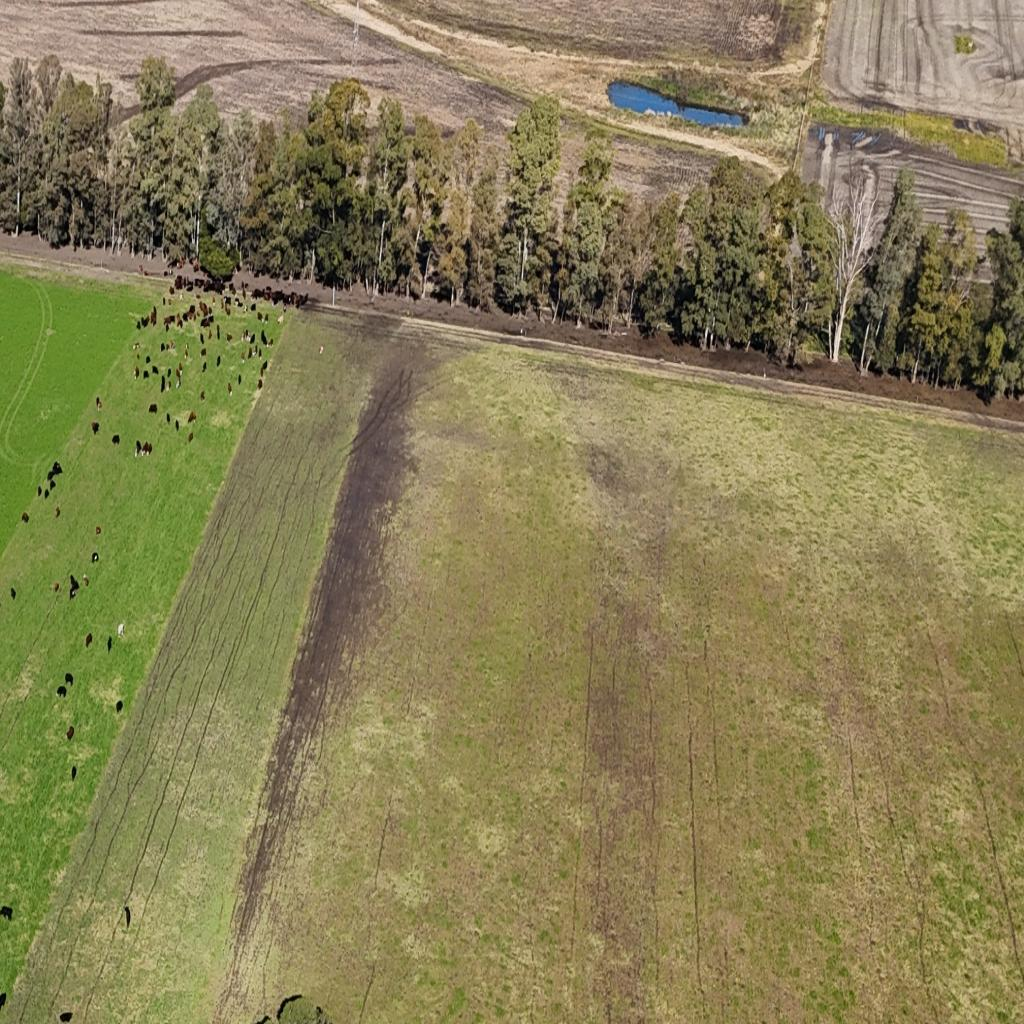cow: (510, 302, 542, 339), (169, 360, 190, 393), (196, 273, 221, 294), (284, 277, 303, 301), (276, 299, 292, 321), (289, 291, 308, 309), (322, 275, 341, 293), (332, 278, 353, 294), (47, 462, 63, 482), (69, 574, 80, 601), (272, 283, 286, 300), (0, 905, 13, 921), (199, 301, 211, 318), (223, 297, 232, 315), (254, 1014, 272, 1023), (176, 275, 186, 291), (187, 420, 197, 436), (42, 466, 52, 482), (439, 294, 450, 308), (193, 276, 202, 292), (235, 345, 243, 363), (183, 280, 194, 293), (142, 441, 152, 455), (260, 329, 268, 346), (225, 331, 235, 344), (242, 330, 252, 343), (188, 306, 196, 322), (66, 724, 74, 740), (197, 295, 206, 309), (264, 288, 273, 302), (91, 421, 100, 435), (235, 296, 245, 308), (252, 287, 262, 299), (151, 308, 157, 327), (240, 349, 247, 365), (229, 280, 237, 294), (158, 425, 166, 439), (57, 686, 67, 697), (111, 434, 120, 446), (53, 587, 60, 602), (188, 411, 196, 424), (153, 366, 161, 379), (8, 228, 18, 238), (86, 632, 92, 648), (160, 376, 166, 392), (135, 440, 141, 456), (65, 673, 73, 685), (410, 293, 418, 305), (40, 502, 48, 514), (118, 622, 124, 638), (163, 252, 169, 268), (315, 1005, 322, 1018), (176, 315, 182, 330), (134, 365, 140, 380), (184, 342, 189, 360), (149, 403, 157, 414), (176, 363, 182, 377), (261, 361, 267, 375), (247, 348, 254, 360), (177, 257, 184, 269), (244, 278, 250, 292), (132, 342, 140, 352), (164, 268, 172, 278), (107, 636, 112, 652), (72, 765, 77, 781), (96, 397, 102, 410), (10, 587, 16, 600), (116, 700, 122, 713), (22, 512, 29, 523), (250, 301, 257, 312), (44, 486, 50, 498), (227, 381, 232, 395), (242, 282, 247, 296), (193, 262, 200, 272), (75, 247, 82, 257), (94, 239, 101, 249), (216, 324, 220, 341), (54, 581, 60, 592), (278, 314, 284, 325), (92, 552, 98, 563), (368, 295, 374, 306), (268, 337, 274, 347), (164, 322, 170, 332), (258, 377, 263, 389), (188, 431, 193, 443), (216, 354, 221, 366), (144, 355, 150, 365), (242, 304, 248, 314), (289, 272, 294, 284), (101, 266, 107, 276), (573, 321, 579, 331), (257, 312, 262, 323), (136, 320, 141, 331), (170, 339, 175, 350), (56, 505, 60, 518), (238, 373, 242, 386), (200, 391, 205, 401), (160, 342, 165, 352), (162, 296, 167, 306), (167, 368, 172, 378), (37, 486, 42, 496), (200, 334, 204, 346), (175, 420, 179, 432), (166, 412, 170, 424), (318, 346, 324, 354), (96, 526, 101, 535), (202, 362, 206, 372), (143, 268, 148, 276), (84, 577, 88, 587), (407, 309, 411, 318)
